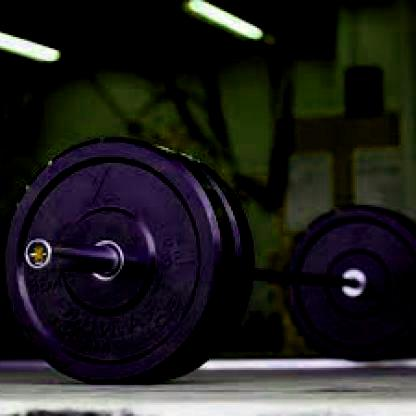Barbell: (18, 229, 55, 281)
